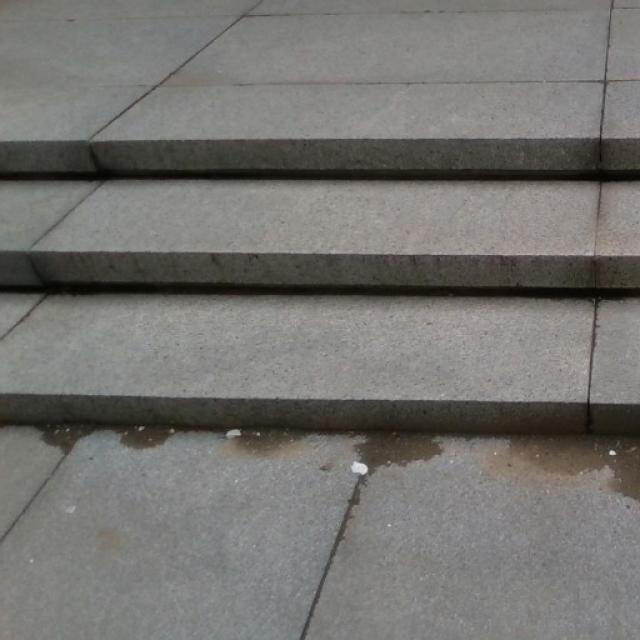Stairs: (0, 135, 639, 433)
